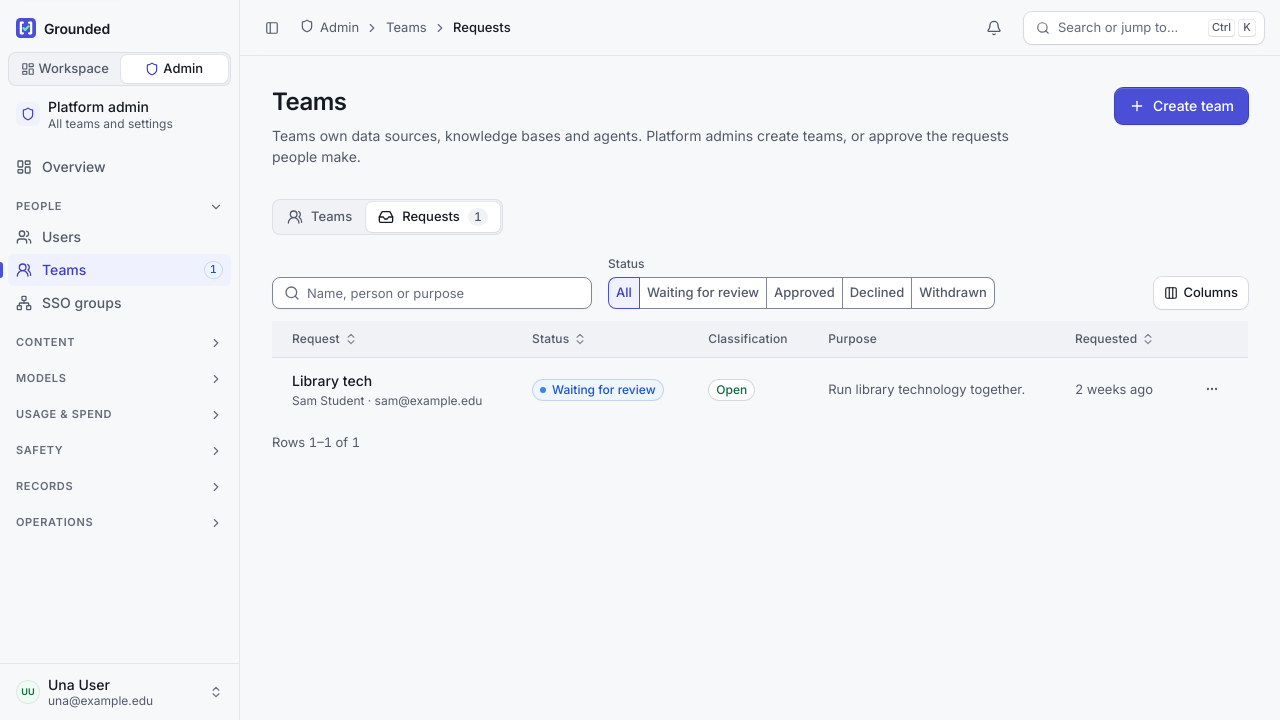
Test: a request someone else decided first › keeps the dialog open for another error
Click the button named "Actions for Library tech".
click(1212, 389)  # box [1196,373,1228,405]
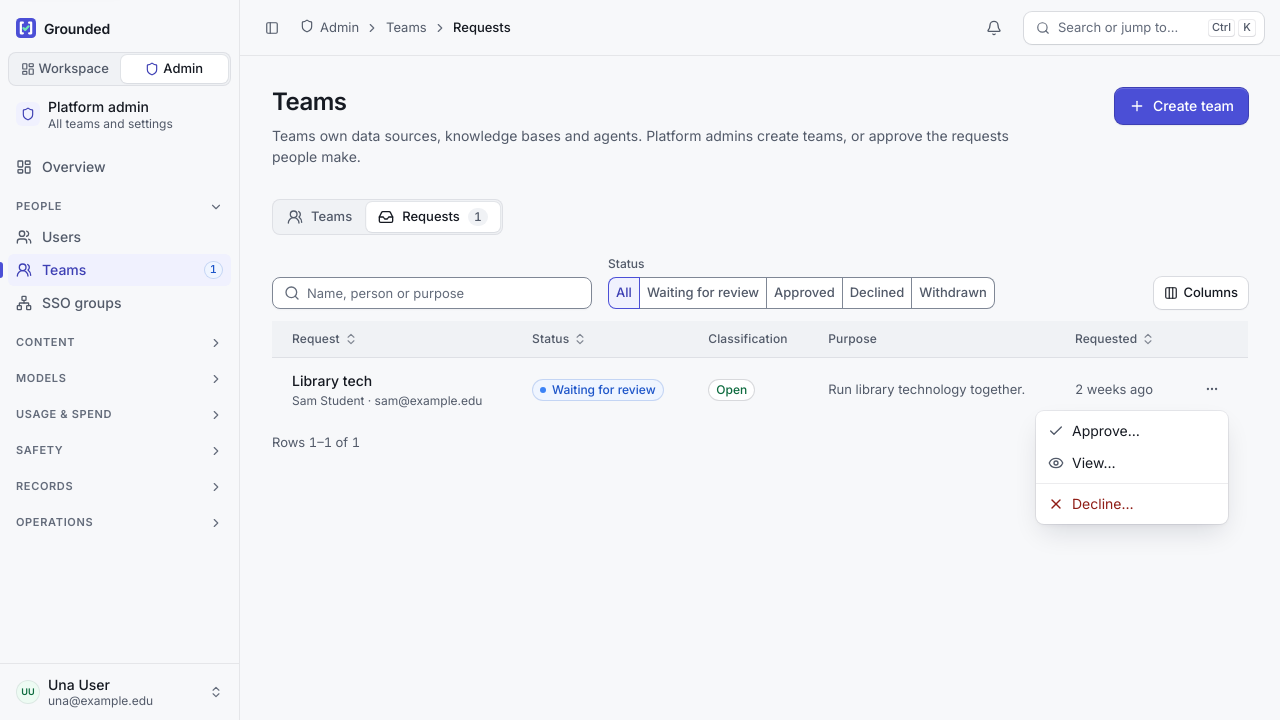
Click the menu item "Decline…".
click(1091, 504)  # box [1048,495,1134,512]
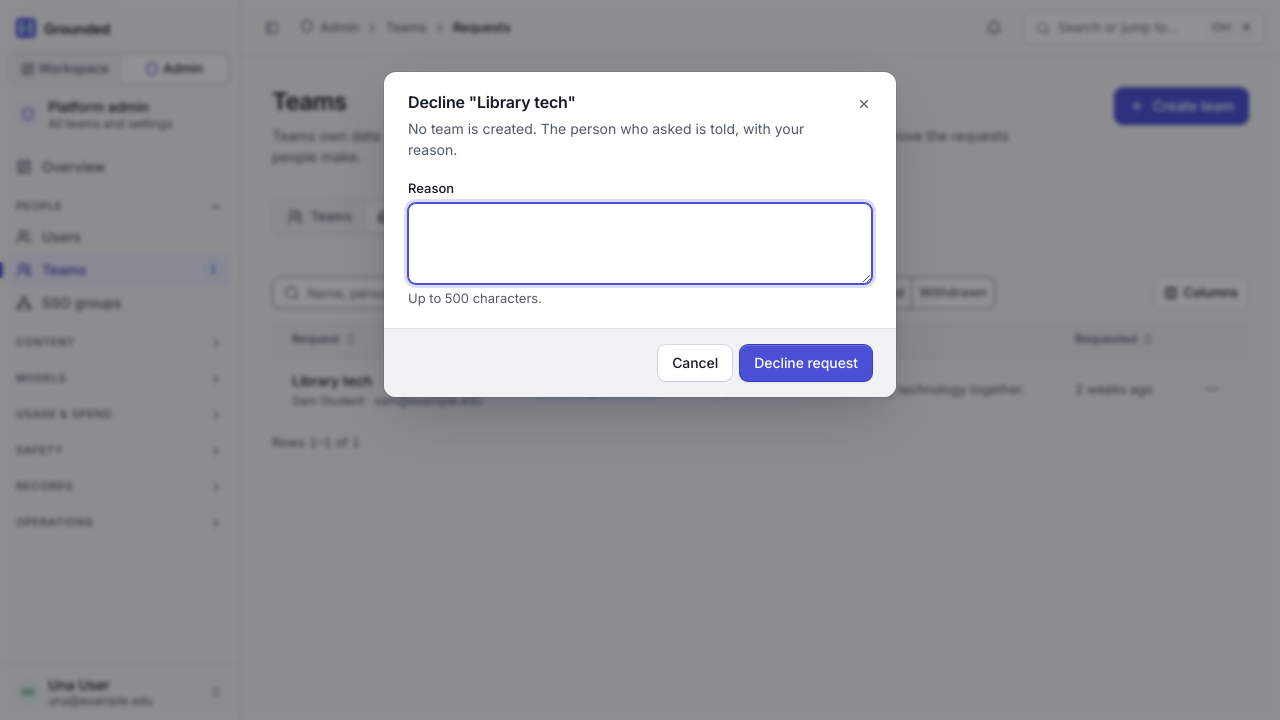
Type "Use the existing team" into the text box labelled "Reason".
click(640, 244); type("Use the existing team")  # box [408,203,872,284]
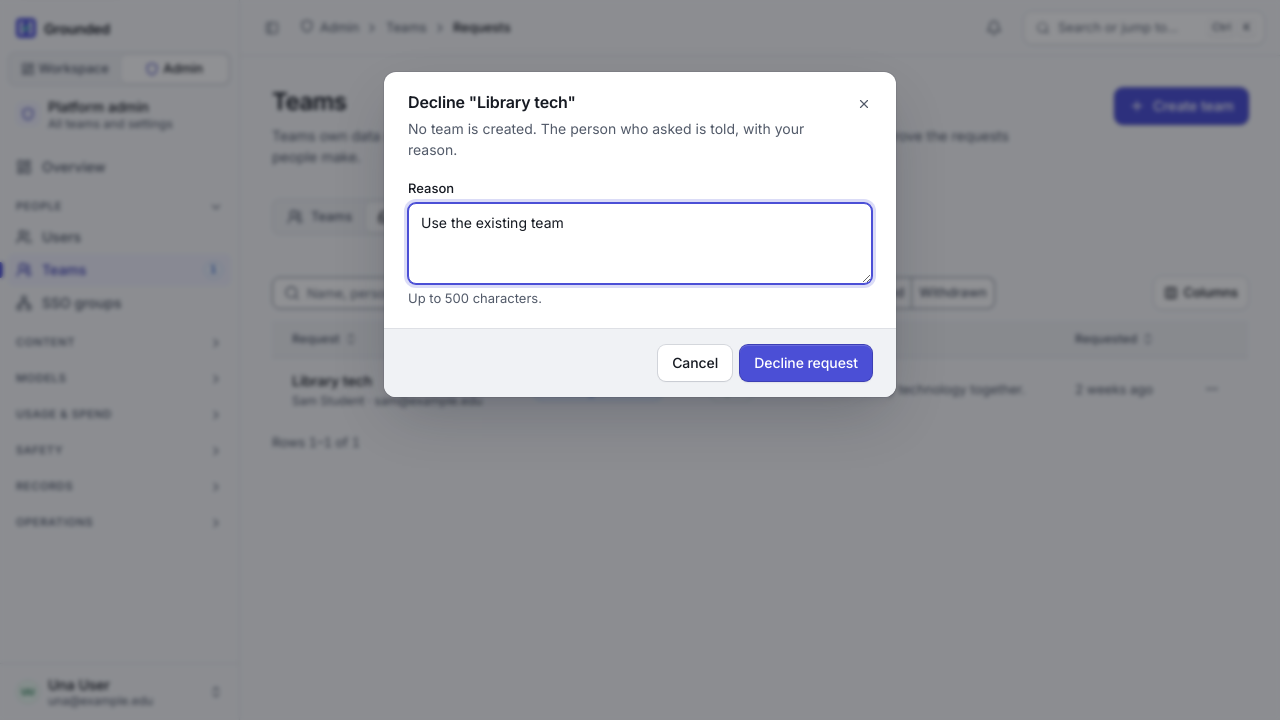
Click the button "Decline request".
click(806, 363)  # box [740,345,872,381]
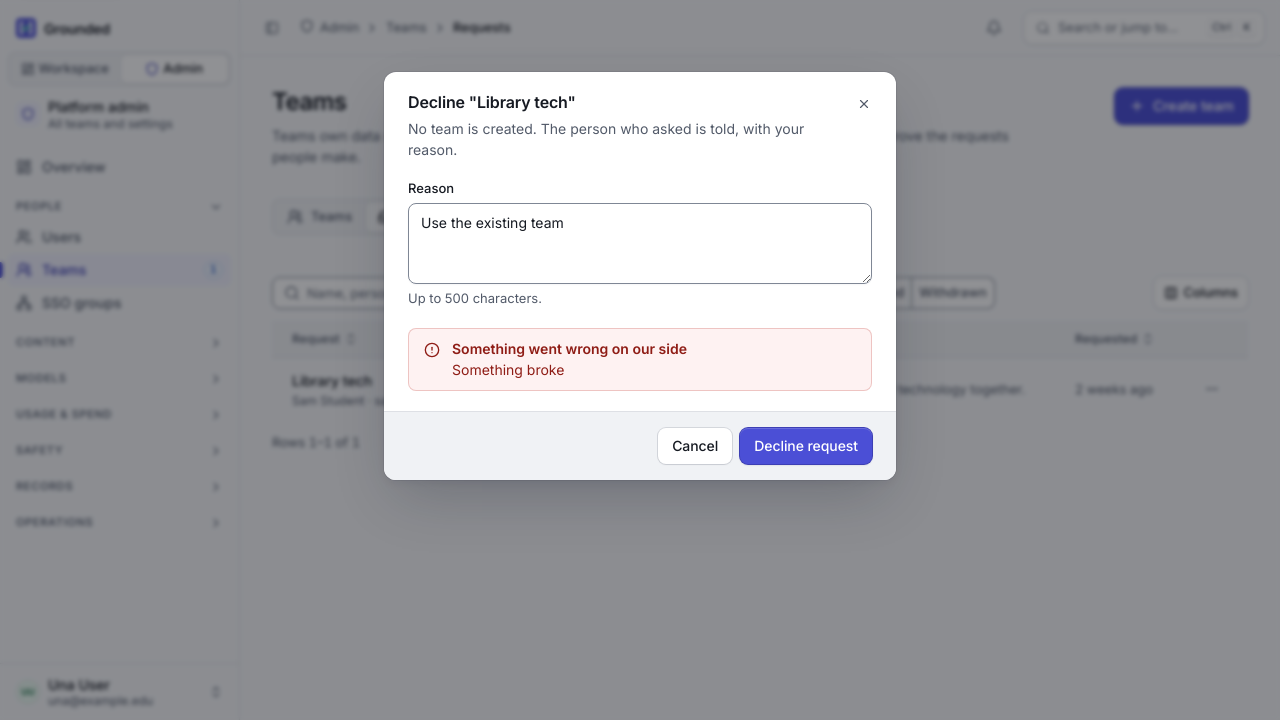
Now the dialog "Decline" is shown, box [384,72,896,480]
Now the text "Something broke" is shown, box [452,361,564,378]
